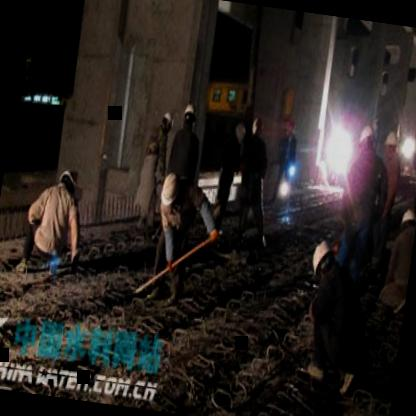helmet: (307, 236, 344, 294), (156, 167, 186, 213), (350, 118, 378, 158), (56, 164, 80, 198), (380, 126, 400, 162), (397, 203, 416, 237), (178, 100, 196, 132), (156, 110, 175, 136)
